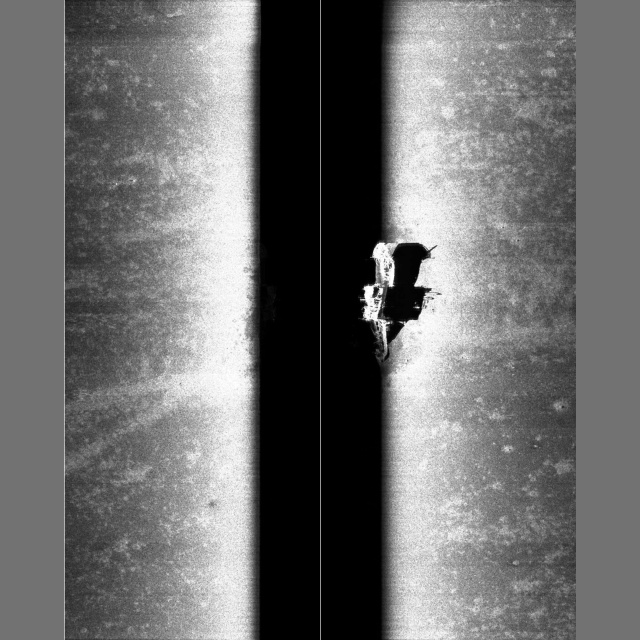Shipwreck: (358, 241, 396, 363)
